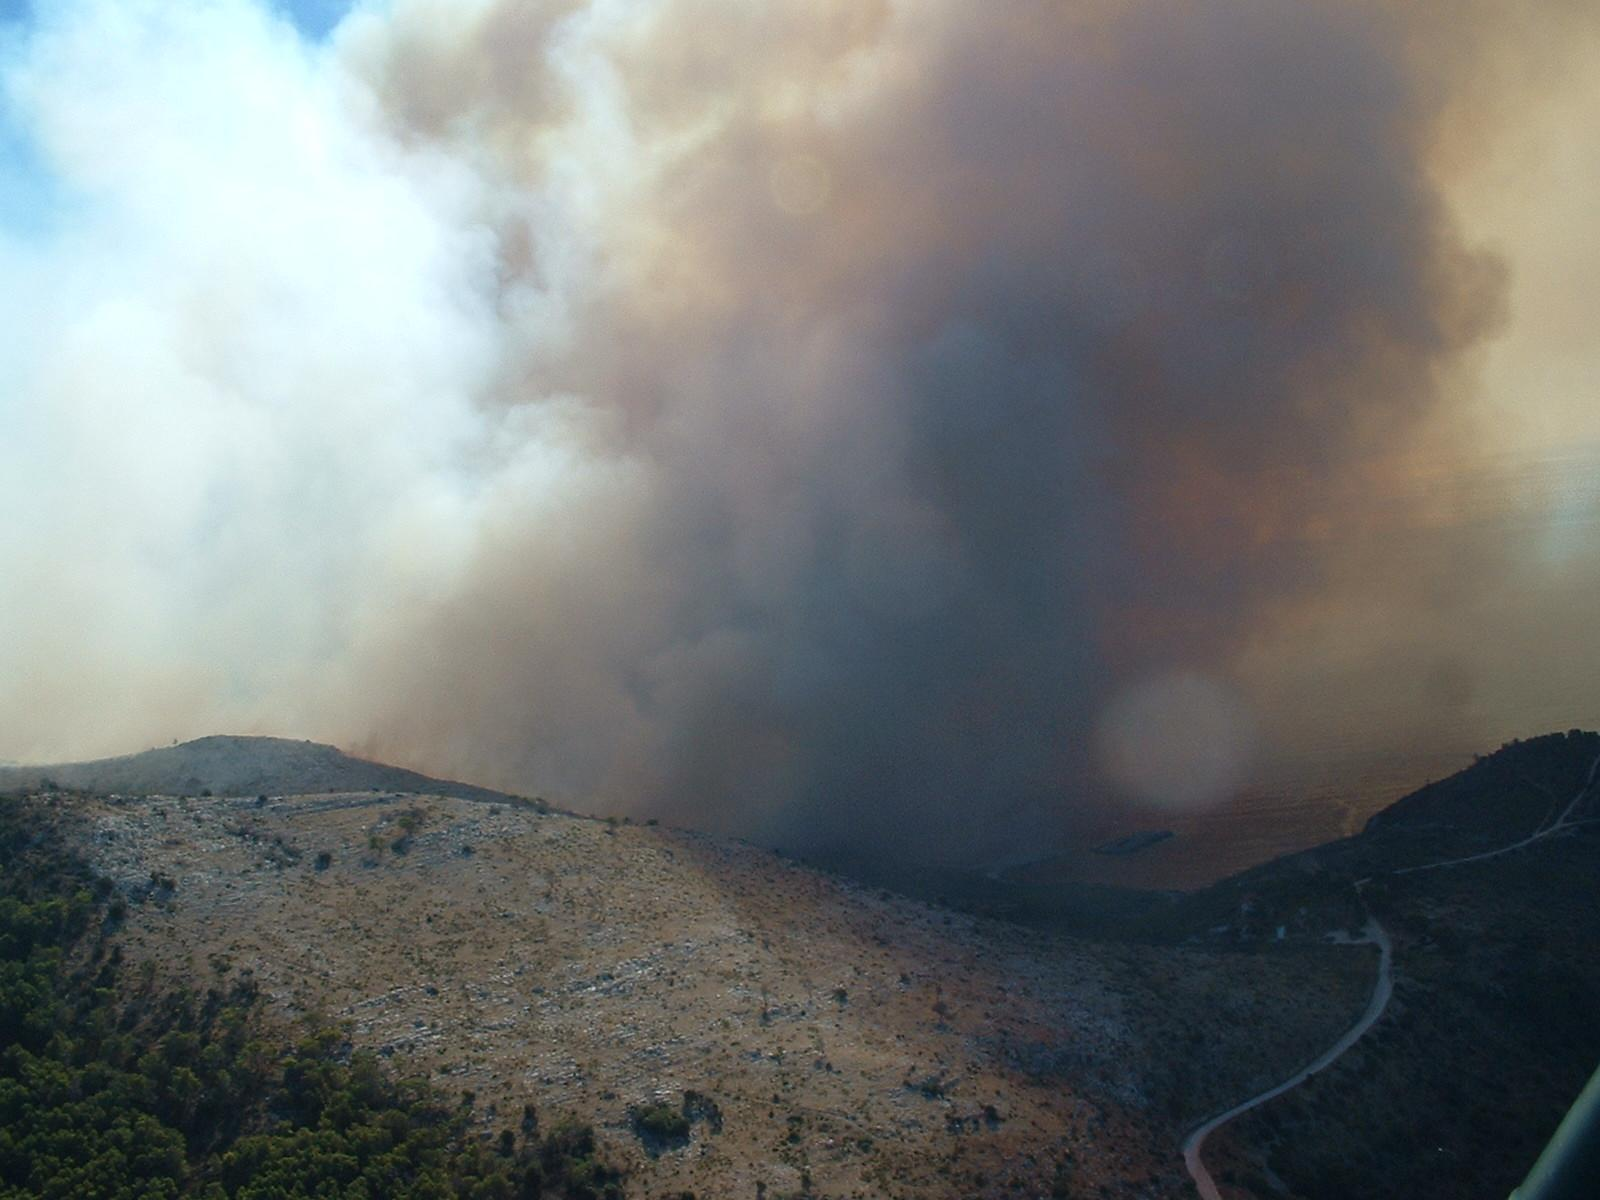Smoke: (1, 8, 1586, 897)
